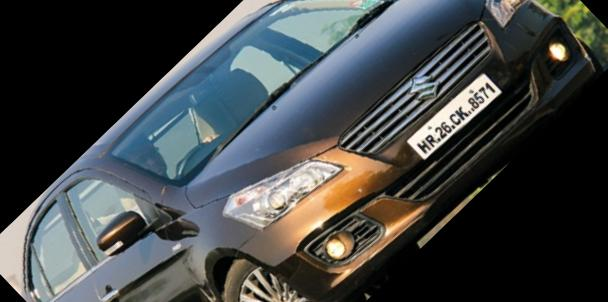plate: (387, 51, 521, 183)
